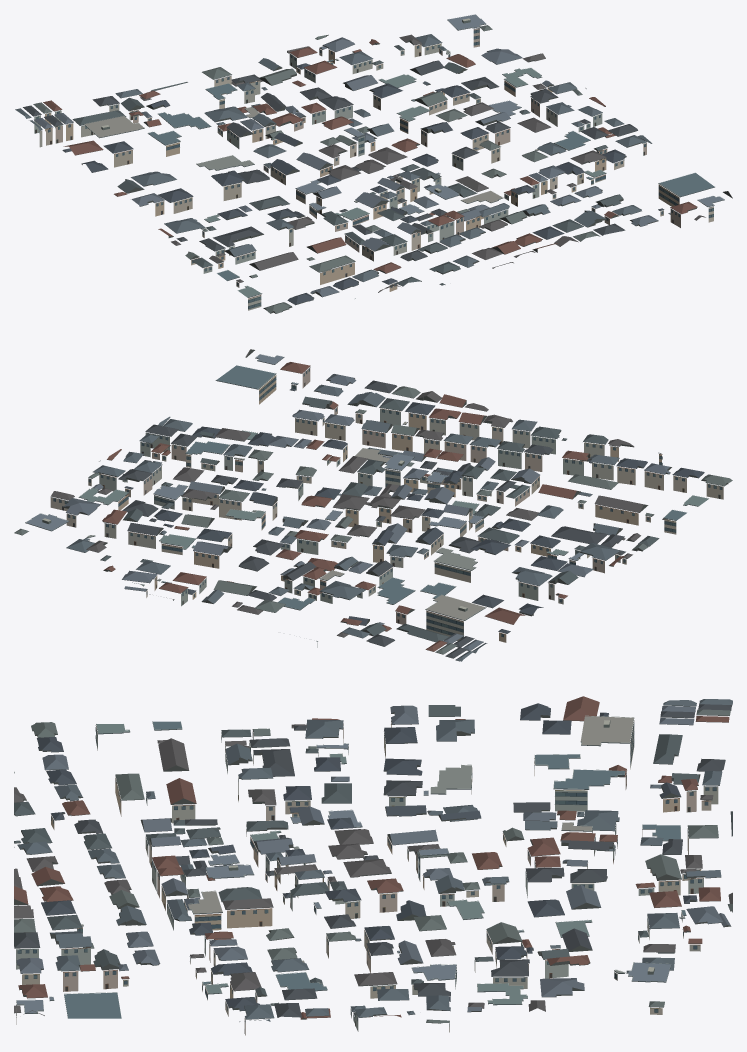
3 renders of one model, top to bottom at view 1: azimuth 30°, elevation 25°; view 2: azimuth 150°, elevation 25°; view 3: azimuth 270°, elevation 25°, orthographic. The views are drawn at different scales.
Parts seen in each view (by area): view 1: r3-c3; view 2: r3-c3; view 3: r3-c3.
Part boxes in pixels (x1=…): r3-c3: x1=15, y1=14, x2=732, y2=313; r3-c3: x1=14, y1=349, x2=732, y2=661; r3-c3: x1=14, y1=696, x2=732, y2=1035.
Size of the model in its own units: 250 by 20.66 by 250.
